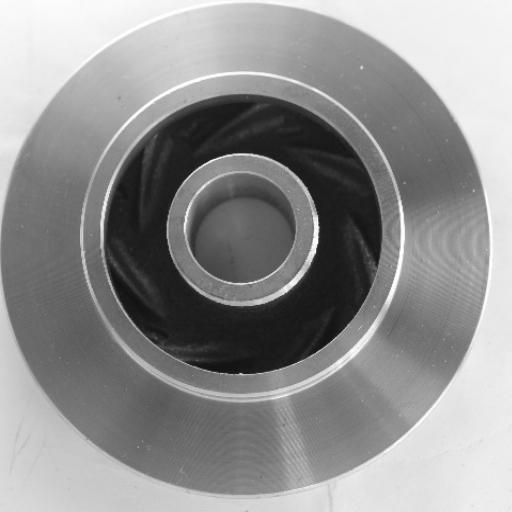polished_casting: (4, 0, 492, 495)
